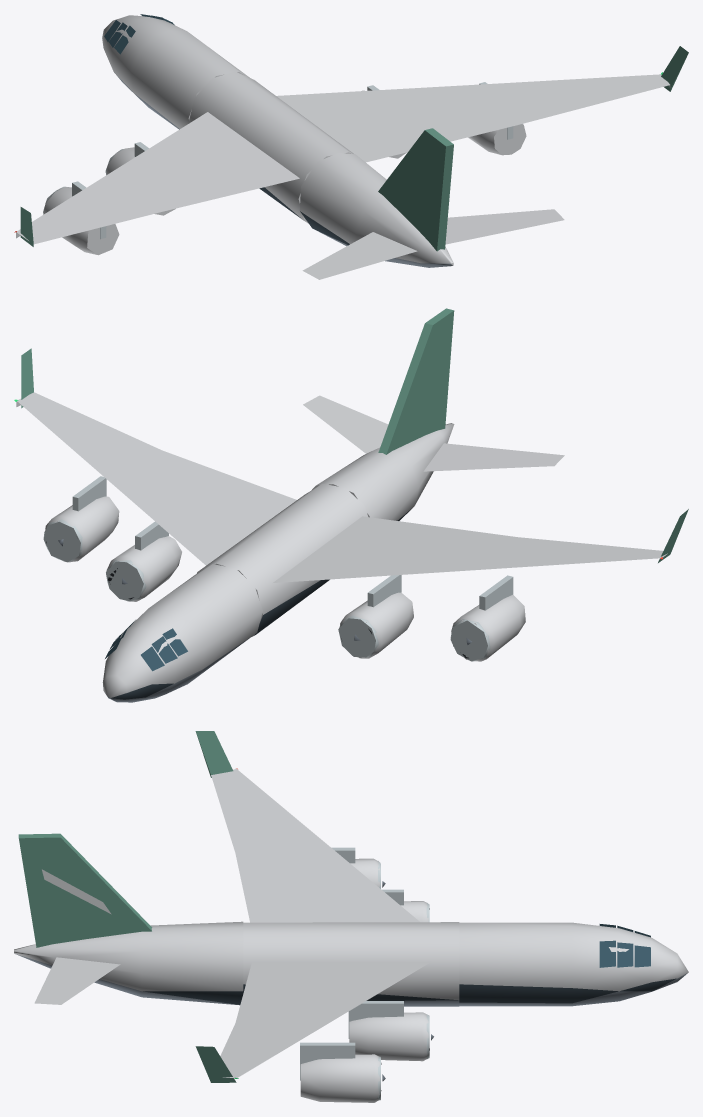
File: atlas-lod1.glb
3 renders of one model, top to bottom at view 1: azimuth 30°, elevation 25°; view 2: azimuth 150°, elevation 25°; view 3: azimuth 270°, elevation 25°, orthographic.
Visible parts, largest first — view 1: distant_airframe; view 2: distant_airframe; view 3: distant_airframe.
Part boxes in pixels (x1=…): distant_airframe: x1=14, y1=14, x2=688, y2=279; distant_airframe: x1=14, y1=308, x2=688, y2=702; distant_airframe: x1=14, y1=731, x2=688, y2=1102.
Bounding box in the file's own units: 38.76 × 9.61 × 35.01.
